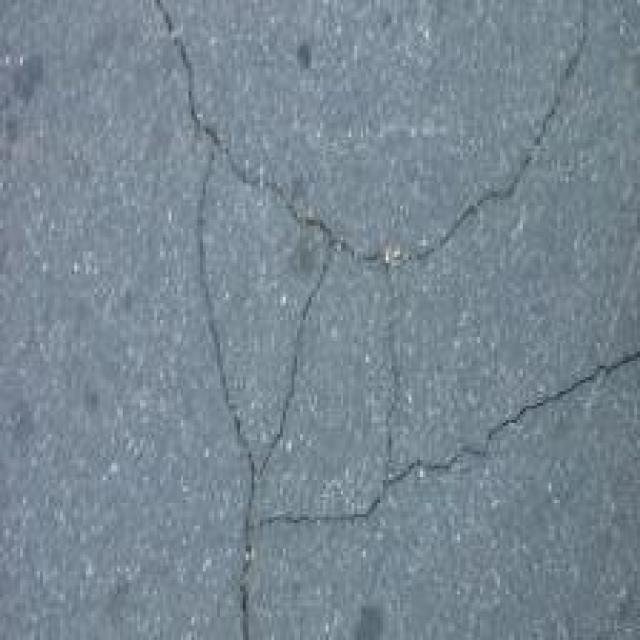crack: (124, 4, 640, 634)
